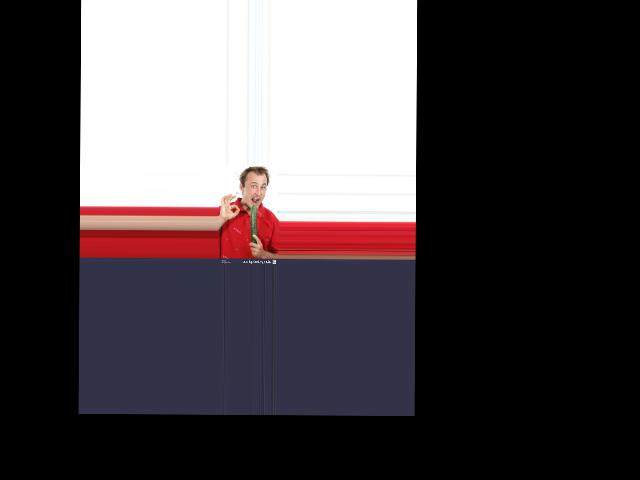cucumber: (250, 205, 256, 243)
